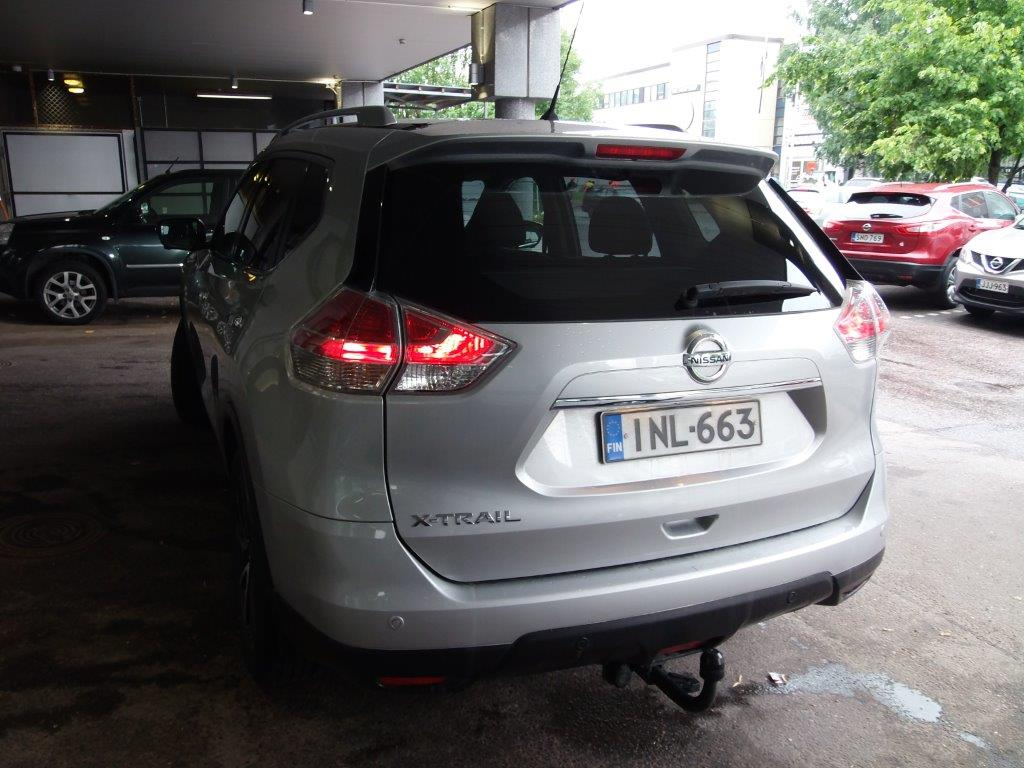license: (595, 400, 758, 468)
